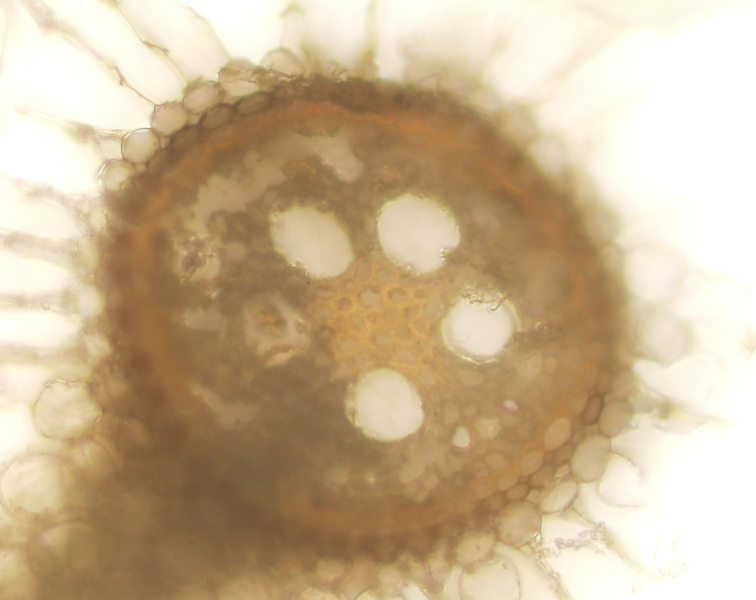lm: (376, 192, 461, 276), (440, 285, 522, 367), (269, 204, 356, 279), (344, 365, 424, 442), (241, 289, 312, 369)
